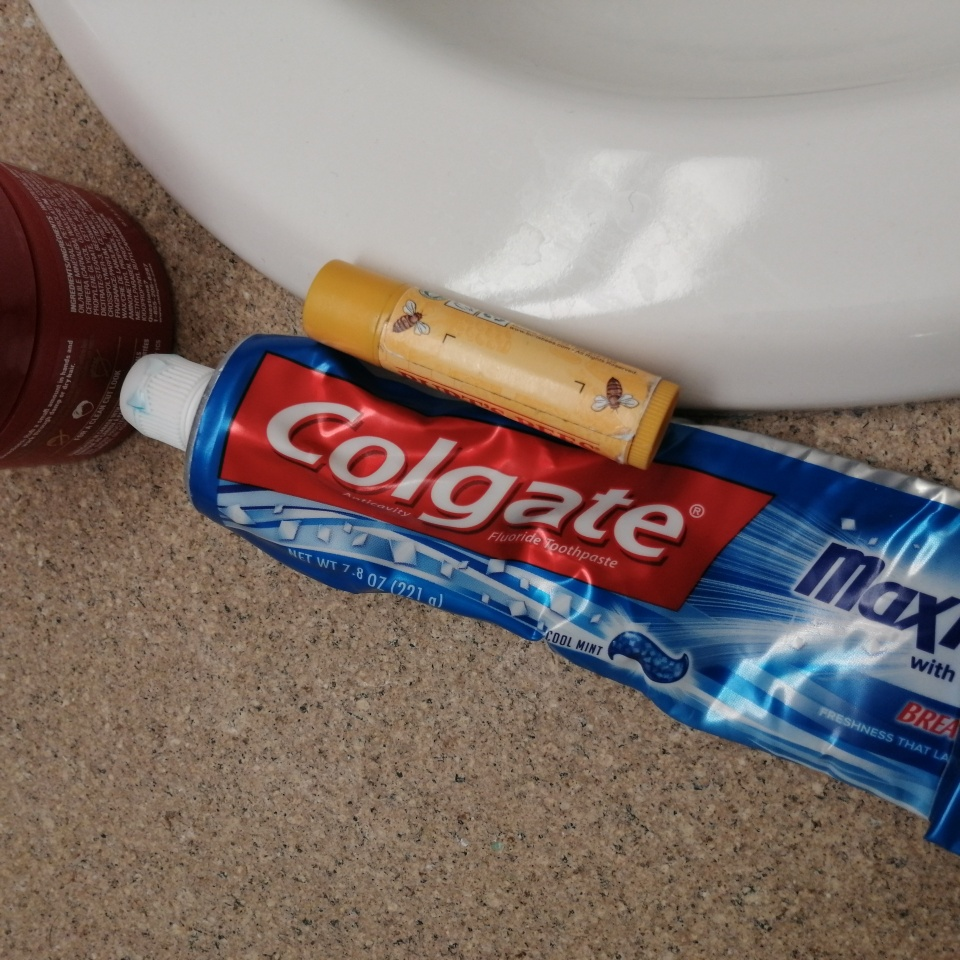chapstick: (301, 257, 681, 471)
